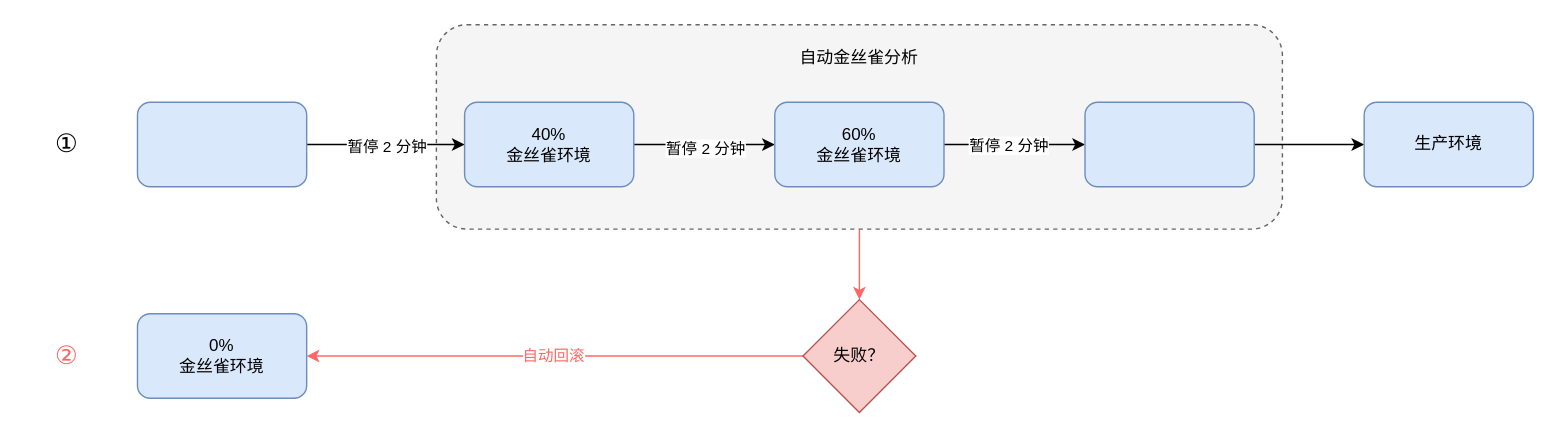
Some shapes in this 1558 by 437 pixel diagram are drawn without their labels. Here are the shapes that lost their labels. From the top down, the box of each, then its label:
(136, 101, 307, 187): 20% 金丝雀环境
(1084, 101, 1254, 187): 80% 金丝雀环境
